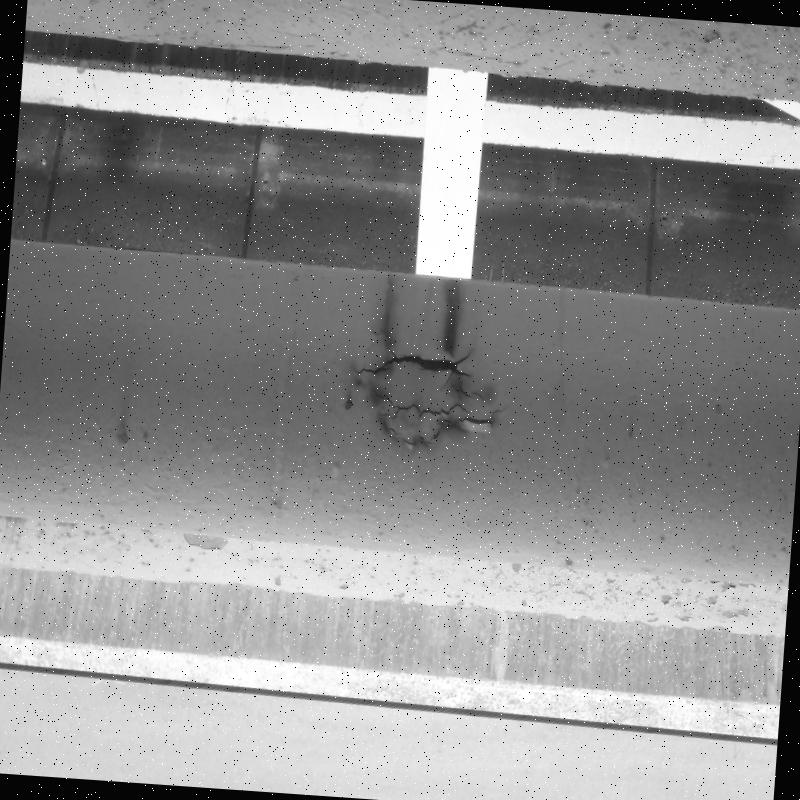Fracture: (384, 336, 474, 386)
corrosion: (389, 418, 436, 453)
